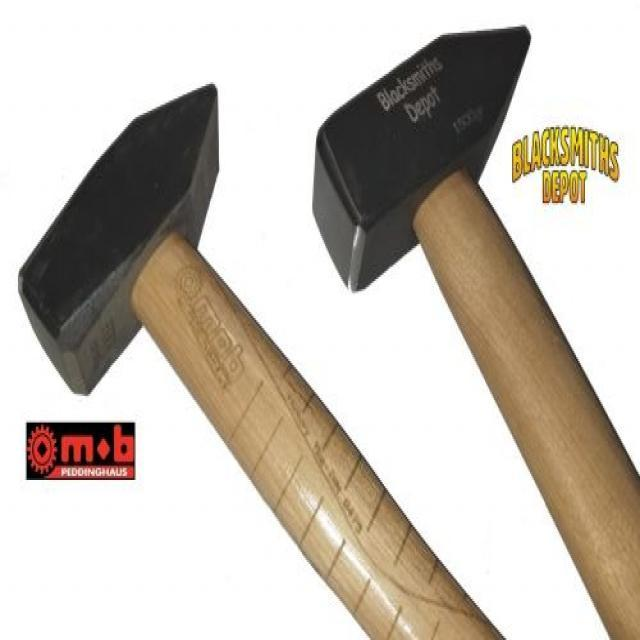hammer: (15, 76, 516, 640), (308, 14, 640, 640)
